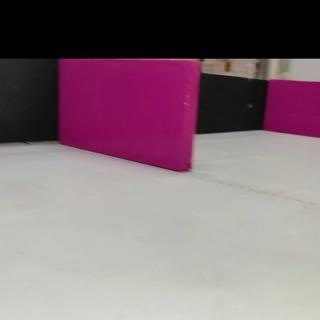xparking: (63, 61, 194, 162), (269, 81, 320, 134)
